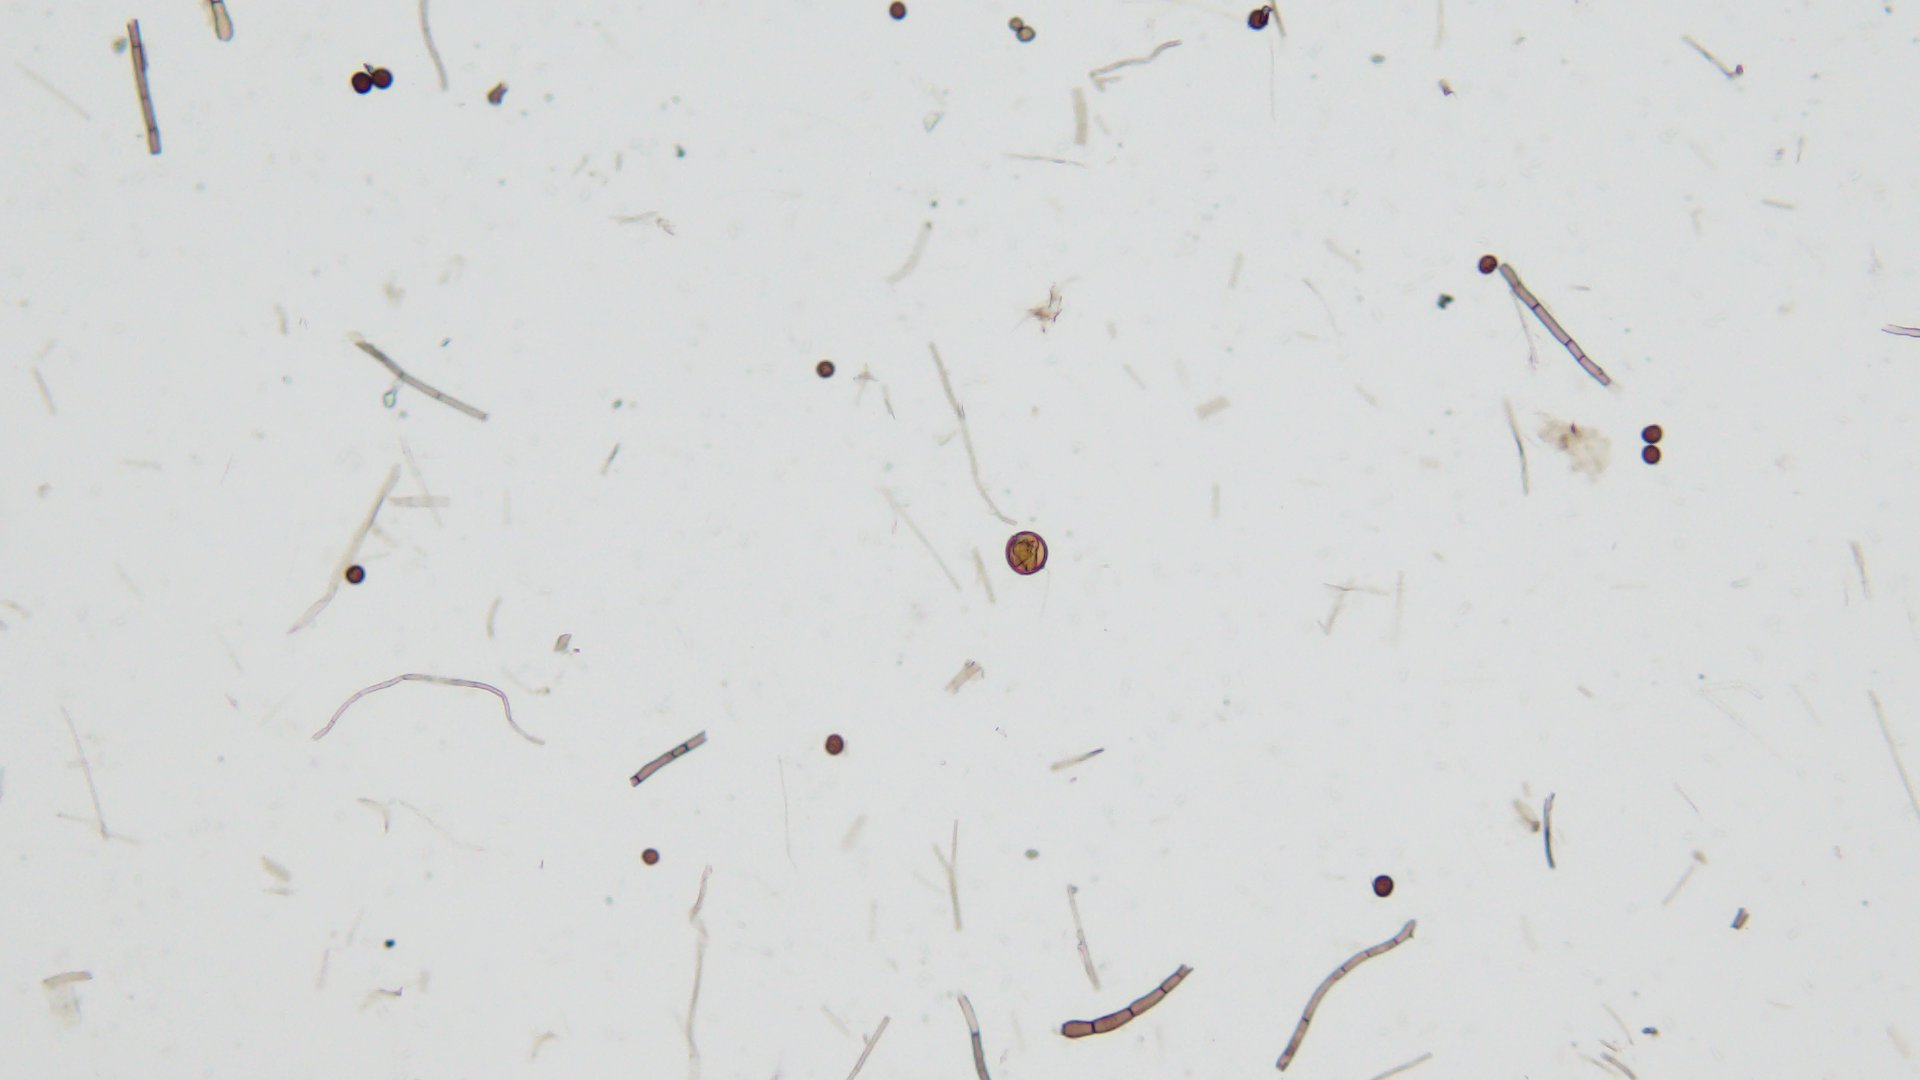shs_spore: (1244, 9, 1271, 30), (348, 73, 371, 98), (1370, 876, 1396, 897), (371, 69, 396, 90), (1476, 255, 1498, 276), (824, 735, 845, 756), (1639, 425, 1662, 442), (1639, 447, 1662, 464), (345, 564, 365, 583), (816, 360, 836, 378), (641, 851, 661, 866)
xb_spore: (1006, 533, 1048, 575)
